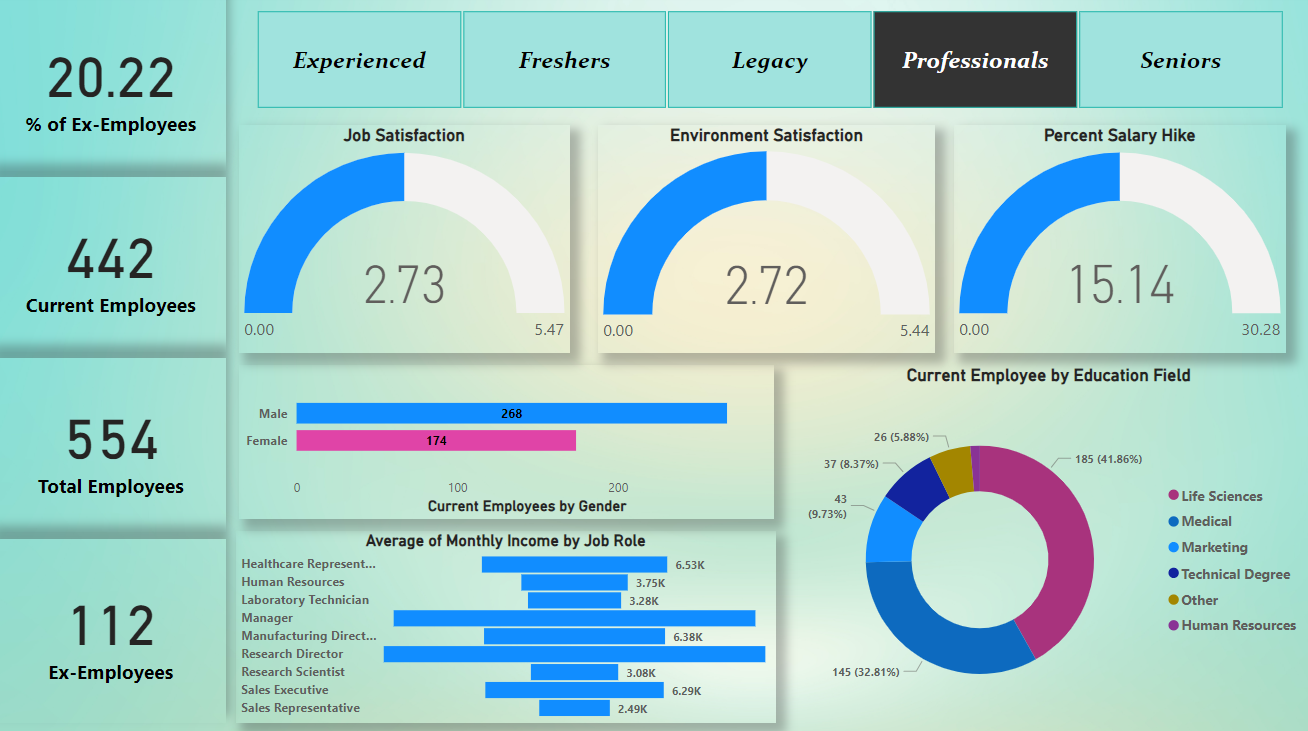

What the dashboard file says about the page in this screenshot:
{"tool":"powerbi","page":{"name":"Page 1","canvas":[1280,720],"ordinal":0},"visuals":[{"type":"card","fields":{"Values":["Sum(Table1.Employee Count)"]},"box":[0,352.7,225.1,169.1],"z":0},{"type":"card","fields":{"Values":["Sum(Table1.Ex-Employees)"]},"box":[0,529,225.1,179.4],"z":1000},{"type":"card","fields":{"Values":["Sum(Table1.CF_current Employee)"]},"box":[0,177.4,225.1,170.1],"z":2000},{"type":"card","fields":{"Values":["Table1.% of ex-employees"]},"box":[0,1,225.1,170.1],"z":3000},{"type":"slicer","fields":{"Values":["Table1.Age Category"]},"box":[229.5,8.8,1046.6,108],"z":4000},{"type":"gauge","fields":{"Y":["Avg(Table1.Job Satisfaction)"]},"box":[237.5,126.5,321.6,222],"z":5000},{"type":"gauge","fields":{"Y":["Avg(Table1.Environment Satisfaction)"]},"box":[586.1,126.5,327.8,222],"z":6000},{"type":"gauge","fields":{"Y":["Avg(Table1.Percent Salary Hike)"]},"box":[932.5,126.5,322.6,222],"z":7000},{"type":"barChart","fields":{"Y":["Sum(Table1.CF_current Employee)"],"Category":["Table1.Gender"]},"box":[237.5,359.9,519.7,150.4],"z":8000},{"type":"donutChart","fields":{"Y":["Sum(Table1.CF_current Employee)"],"Category":["Table1.Education Field"]},"box":[770.7,359.9,509.3,359.9],"z":9000},{"type":"funnel","fields":{"Category":["Table1.Job Role"],"Y":["Avg(Table1.Monthly Income)"]},"box":[234.4,521.8,524.9,186.7],"z":10000}]}

Visuals, with their boxes in screenshot pixels (x1, y1, x2, y2), scaled from the page's 1280x720 canvas onto the 1308x731 screenshot:
card - Sum(Table1.Employee Count): {"x1": 0, "y1": 358, "x2": 230, "y2": 530}
card - Sum(Table1.Ex-Employees): {"x1": 0, "y1": 537, "x2": 230, "y2": 719}
card - Sum(Table1.CF_current Employee): {"x1": 0, "y1": 180, "x2": 230, "y2": 353}
card - Table1.% of ex-employees: {"x1": 0, "y1": 1, "x2": 230, "y2": 174}
slicer - Table1.Age Category: {"x1": 235, "y1": 9, "x2": 1304, "y2": 119}
gauge - Avg(Table1.Job Satisfaction): {"x1": 243, "y1": 128, "x2": 571, "y2": 354}
gauge - Avg(Table1.Environment Satisfaction): {"x1": 599, "y1": 128, "x2": 934, "y2": 354}
gauge - Avg(Table1.Percent Salary Hike): {"x1": 953, "y1": 128, "x2": 1283, "y2": 354}
barChart - Sum(Table1.CF_current Employee) x Table1.Gender: {"x1": 243, "y1": 365, "x2": 774, "y2": 518}
donutChart - Sum(Table1.CF_current Employee) x Table1.Education Field: {"x1": 788, "y1": 365, "x2": 1307, "y2": 730}
funnel - Table1.Job Role x Avg(Table1.Monthly Income): {"x1": 240, "y1": 530, "x2": 776, "y2": 719}
